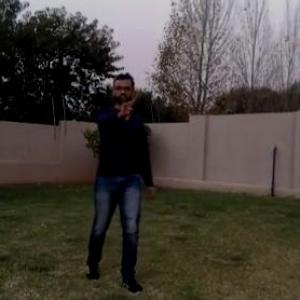takeoff-hand: (111, 90, 139, 123)
